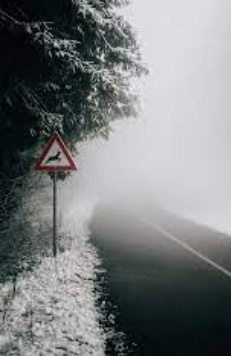Animal Crossing: (27, 125, 79, 171)
